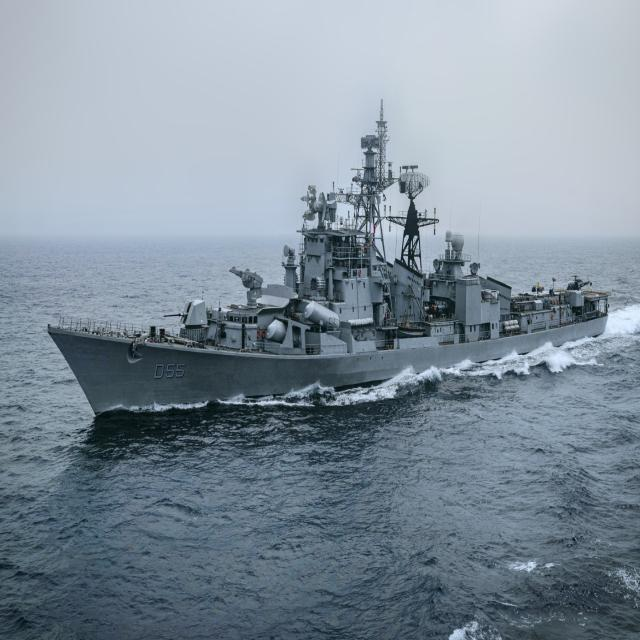navalvessels: (30, 123, 629, 415)
